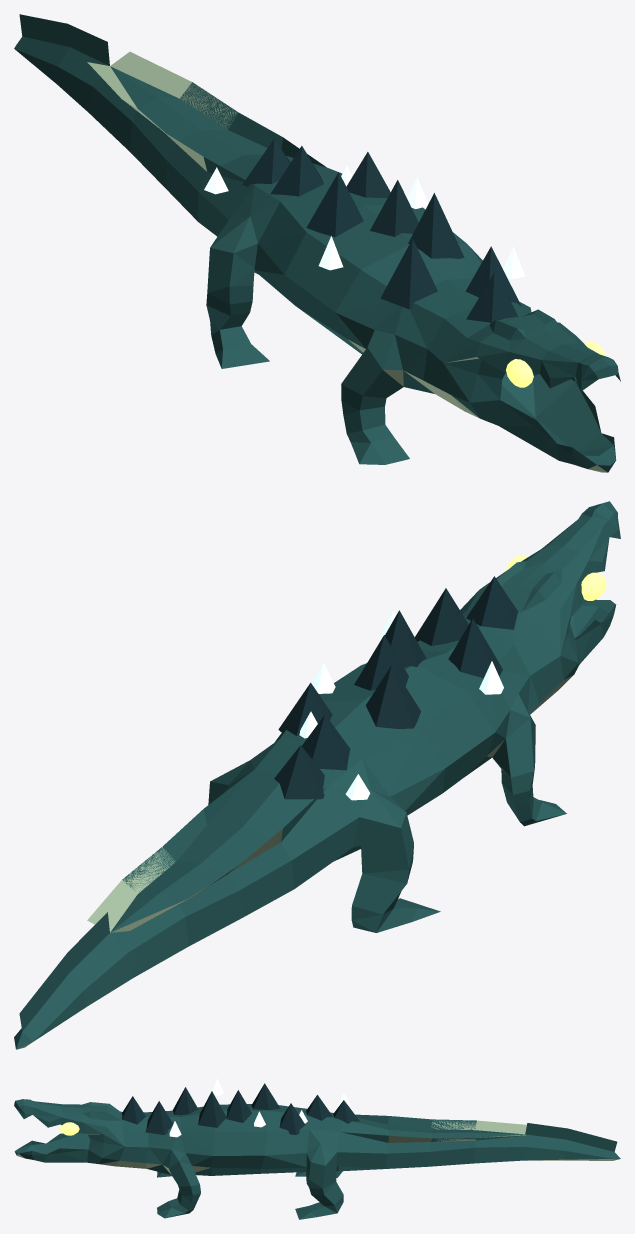
The model's file is RiptideCroc.fbx.
The picture shows the model from 3 angles, top to bottom: view 1: azimuth 30°, elevation 25°; view 2: azimuth 150°, elevation 25°; view 3: azimuth 270°, elevation 25°; orthographic projection. The views are drawn at different scales.
Visible parts, largest first — view 1: Body, Tail1, Head, Deco_Plates, LegFL, Glow_50dcff, Glow_ffdc3c; view 2: Body, Tail1, Deco_Plates, Head, LegBL, LegFL, Glow_50dcff; view 3: Body, Tail1, Head, Deco_Plates, LegFR, LegBR, Glow_50dcff.
Boxes of the visible parts, left/top/right/bottom form: Body: left=198, top=137, right=535, bottom=416; Tail1: left=14, top=14, right=282, bottom=221; Head: left=443, top=309, right=620, bottom=472; Deco_Plates: left=242, top=138, right=521, bottom=322; LegFL: left=206, top=268, right=434, bottom=464; Glow_50dcff: left=204, top=165, right=524, bottom=279; Glow_ffdc3c: left=506, top=341, right=605, bottom=387; Body: left=203, top=590, right=578, bottom=888; Tail1: left=14, top=809, right=294, bottom=1049; Deco_Plates: left=274, top=576, right=518, bottom=799; Head: left=467, top=501, right=620, bottom=689; LegBL: left=309, top=817, right=416, bottom=932; LegFL: left=394, top=718, right=566, bottom=921; Glow_50dcff: left=299, top=610, right=503, bottom=800; Body: left=103, top=1104, right=388, bottom=1188; Tail1: left=386, top=1116, right=620, bottom=1168; Head: left=14, top=1099, right=124, bottom=1166; Deco_Plates: left=122, top=1083, right=359, bottom=1134; LegFR: left=147, top=1161, right=323, bottom=1219; LegBR: left=311, top=1153, right=382, bottom=1216; Glow_50dcff: left=169, top=1078, right=350, bottom=1137.
Size of the model in its own units: 1.92 by 1.74 by 9.
3 materials, 1 textured.
